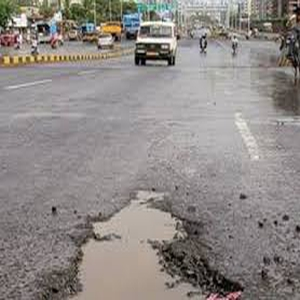pothole: (61, 187, 235, 300)
